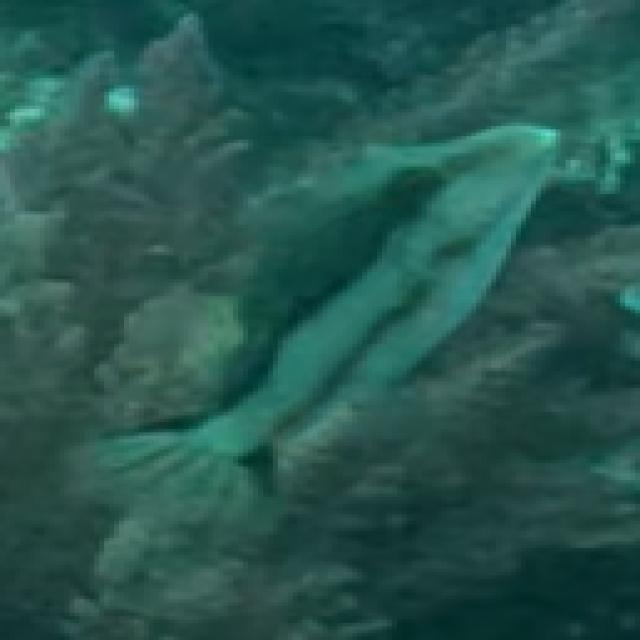Balik: (89, 123, 556, 541)
